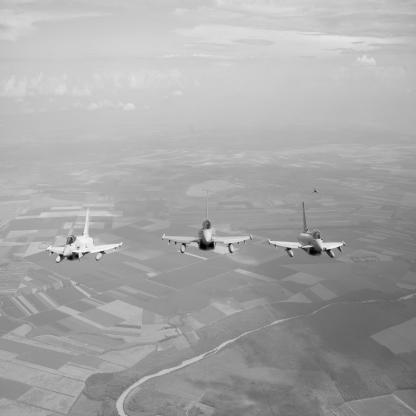EF2000: (163, 191, 254, 254), (269, 203, 347, 259), (47, 207, 123, 264), (311, 188, 320, 194)
